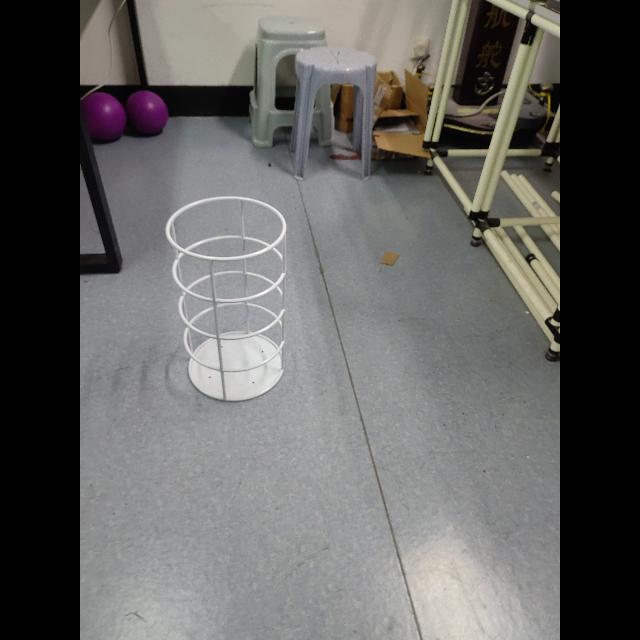S: (160, 192, 292, 404)
